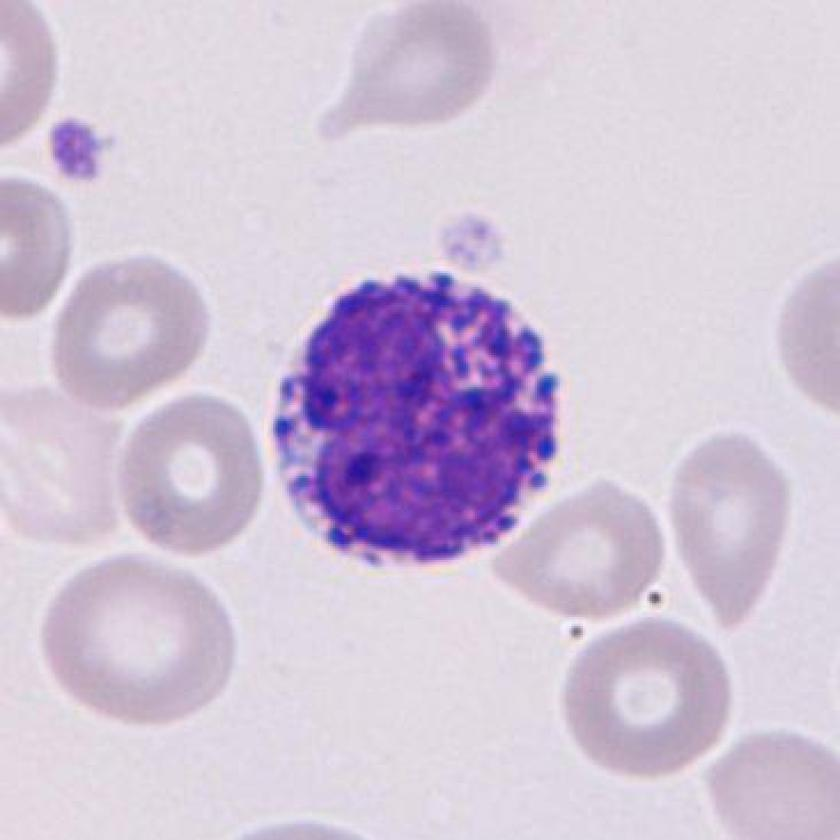basophil: (261, 263, 573, 586)
